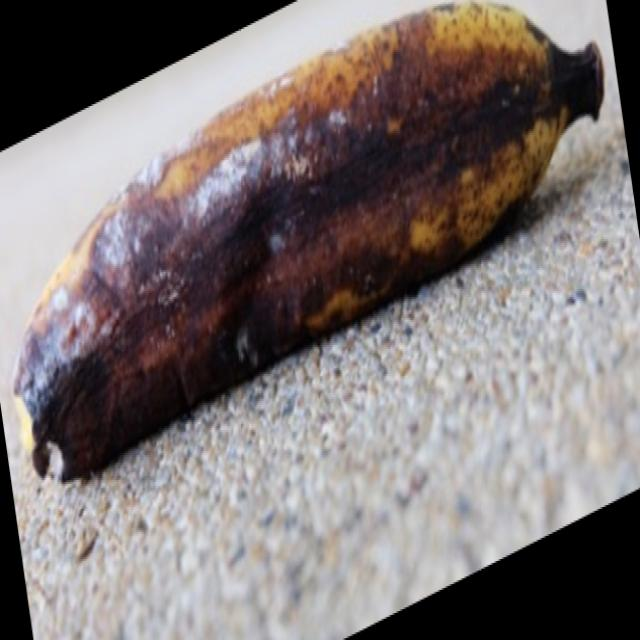Rotten: (0, 0, 619, 501)
